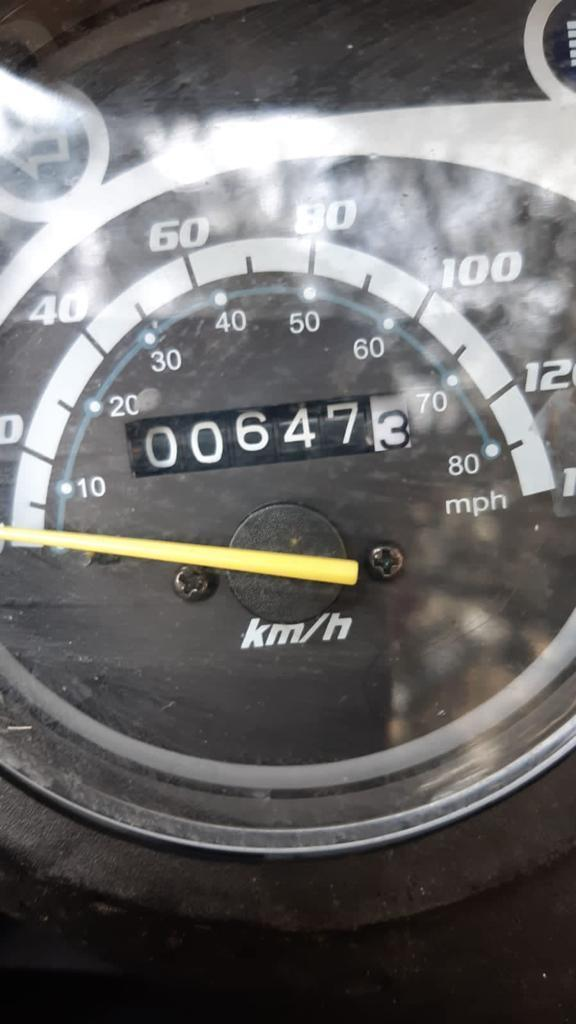0: (186, 415, 228, 470), (138, 422, 178, 472), (124, 392, 140, 418)
3: (375, 408, 412, 457)
4: (278, 403, 318, 452)
6: (233, 406, 270, 456)
7: (323, 398, 360, 448)
odometer: (122, 384, 415, 481)
